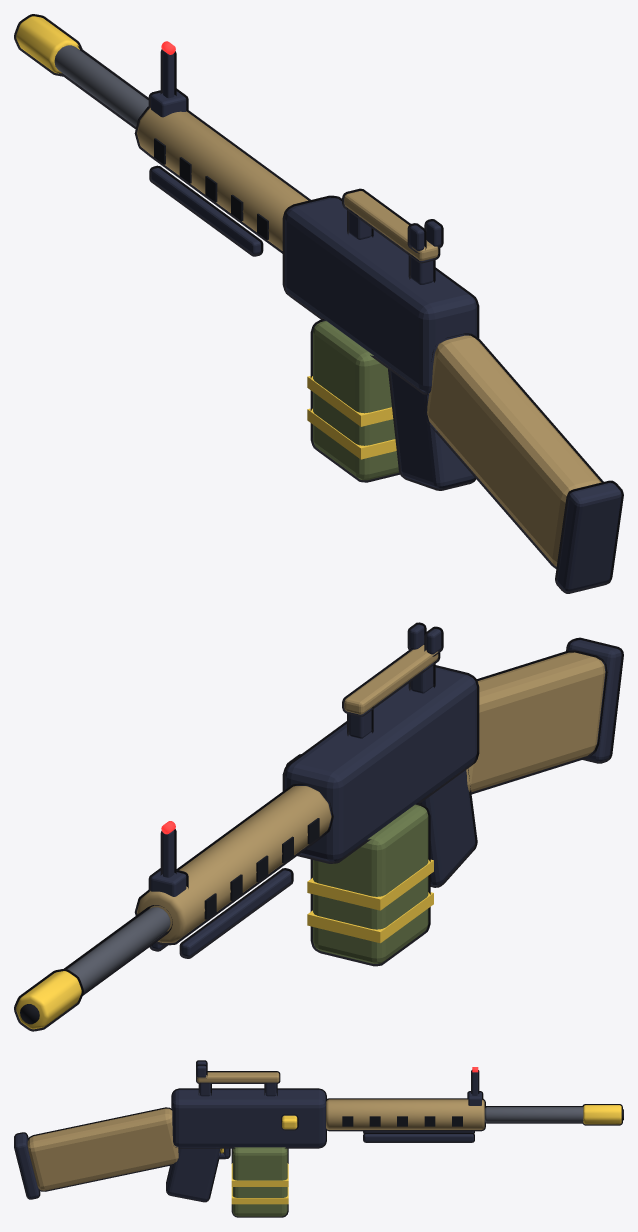
The model's file is machine_gun.glb.
3 renders of one model, top to bottom at view 1: azimuth 30°, elevation 25°; view 2: azimuth 150°, elevation 25°; view 3: azimuth 270°, elevation 25°, orthographic. The views are drawn at different scales.
Visible parts, largest first — view 1: Receiver, Stock, Shroud, Magazine, ButtPad, Grip, Barrel, BipodL, HandleBar, FlashHider, Strap1, Strap0 (+1 smaller); view 2: Receiver, Stock, Magazine, Shroud, Grip, Barrel, HandleBar, BipodL, ButtPad, FlashHider, Strap1, Strap0 (+3 smaller); view 3: Receiver, Stock, Shroud, Magazine, Grip, Barrel, BipodR, HandleBar, ButtPad, FlashHider, Strap0, Strap1 (+1 smaller).
Part boxes in pixels (x1=…): Receiver: x1=282, y1=195, x2=479, y2=394; Stock: x1=424, y1=333, x2=603, y2=568; Shroud: x1=134, y1=106, x2=310, y2=253; Magazine: x1=310, y1=319, x2=399, y2=482; ButtPad: x1=555, y1=480, x2=623, y2=593; Grip: x1=388, y1=368, x2=476, y2=490; Barrel: x1=54, y1=45, x2=148, y2=128; BipodL: x1=149, y1=165, x2=263, y2=256; HandleBar: x1=342, y1=188, x2=440, y2=263; FlashHider: x1=14, y1=14, x2=82, y2=76; Strap1: x1=307, y1=408, x2=396, y2=459; Strap0: x1=307, y1=376, x2=393, y2=426; Receiver: x1=282, y1=665, x2=479, y2=863; Stock: x1=466, y1=650, x2=607, y2=794; Magazine: x1=310, y1=803, x2=430, y2=966; Shroud: x1=134, y1=783, x2=333, y2=945; Grip: x1=420, y1=768, x2=477, y2=887; Barrel: x1=64, y1=905, x2=172, y2=995; HandleBar: x1=342, y1=645, x2=440, y2=716; BipodL: x1=179, y1=868, x2=293, y2=958; ButtPad: x1=566, y1=637, x2=623, y2=763; FlashHider: x1=14, y1=968, x2=83, y2=1031; Strap1: x1=307, y1=892, x2=433, y2=943; Strap0: x1=307, y1=859, x2=433, y2=910; Receiver: x1=171, y1=1088, x2=326, y2=1148; Stock: x1=27, y1=1107, x2=178, y2=1191; Shroud: x1=326, y1=1098, x2=485, y2=1131; Magazine: x1=231, y1=1147, x2=288, y2=1217; Grip: x1=166, y1=1147, x2=221, y2=1202; Barrel: x1=484, y1=1106, x2=583, y2=1123; BipodR: x1=363, y1=1132, x2=474, y2=1142; HandleBar: x1=196, y1=1071, x2=280, y2=1083; ButtPad: x1=14, y1=1132, x2=40, y2=1199; FlashHider: x1=582, y1=1104, x2=622, y2=1125; Strap0: x1=231, y1=1163, x2=288, y2=1186; Strap1: x1=231, y1=1187, x2=288, y2=1204.
Bounding box in the file's own units: 0.1003 × 0.2963 × 1.11.
